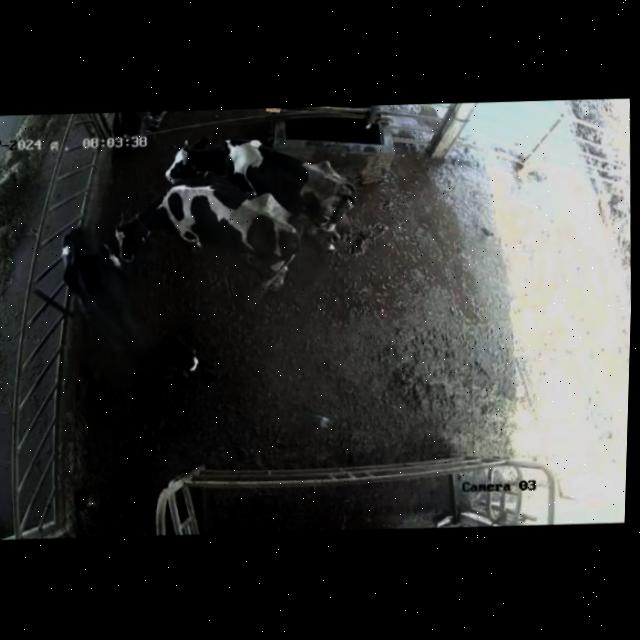stand: (49, 216, 226, 408), (159, 118, 367, 253), (103, 175, 305, 298)
